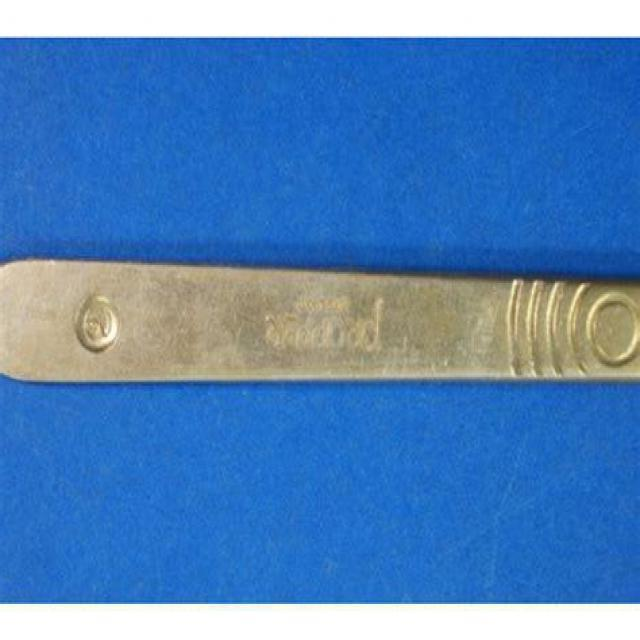Scalpel: (0, 255, 640, 390)
